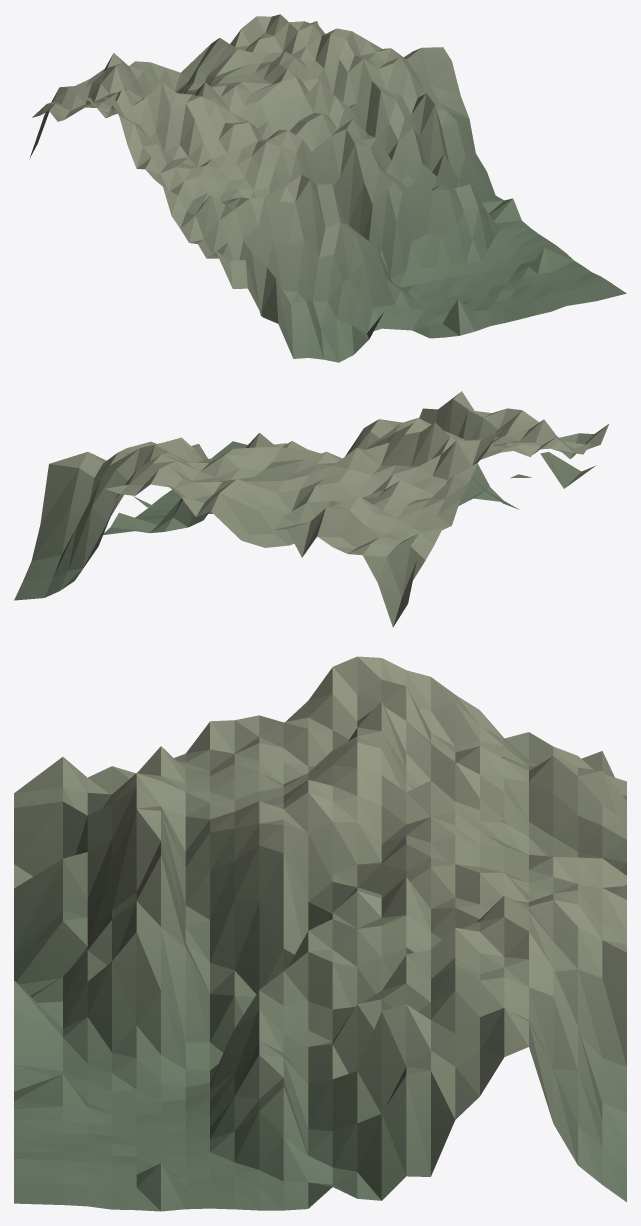
File: tile_3_2.glb
3 views of the same model, one above another, from view 1: azimuth 30°, elevation 25°; view 2: azimuth 150°, elevation 25°; view 3: azimuth 270°, elevation 25° (orthographic). The views are drawn at different scales.
Parts seen in each view (by area): view 1: geometry_0; view 2: geometry_0; view 3: geometry_0.
Part boxes in pixels (left/top/right/bottom): geometry_0: left=29, top=14, right=626, bottom=362; geometry_0: left=14, top=391, right=608, bottom=627; geometry_0: left=14, top=656, right=626, bottom=1211.
Size of the model in its own units: 127 by 62.99 by 123.
